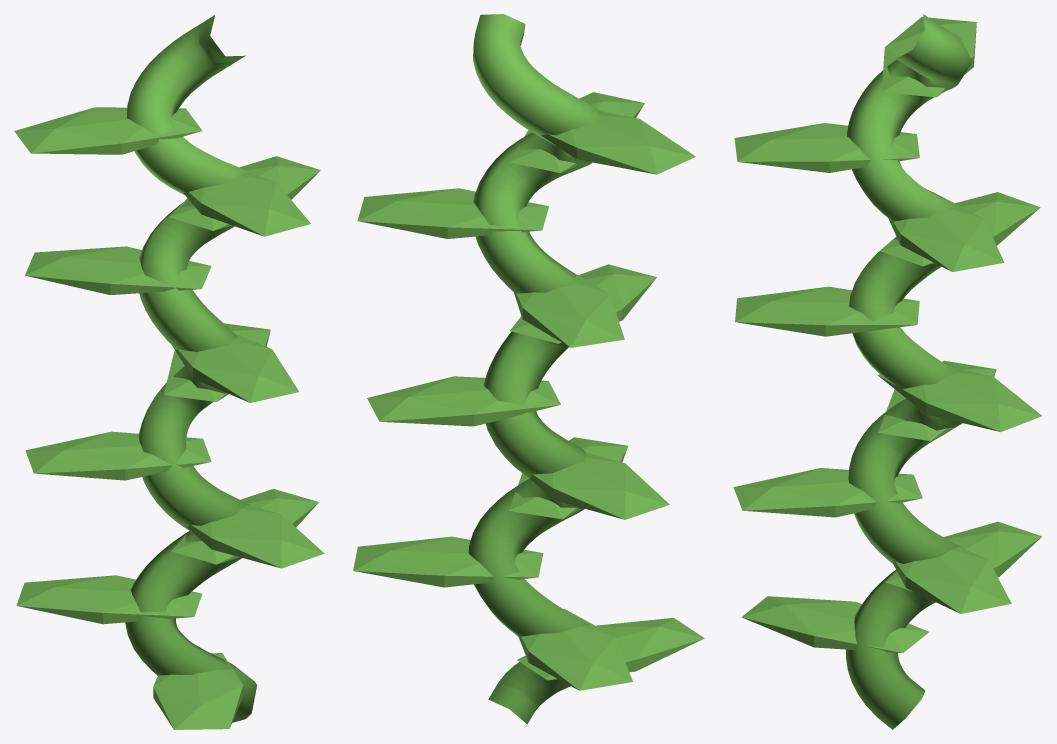
The model's file is beanstalk.glb.
3 renders of one model, left to right at view 1: azimuth 30°, elevation 25°; view 2: azimuth 150°, elevation 25°; view 3: azimuth 270°, elevation 25°, orthographic. The views are drawn at different scales.
Visible parts, largest first — view 1: beanstalk; view 2: beanstalk; view 3: beanstalk.
Boxes of the visible parts, x1,y1,x2,y2 form: beanstalk: [14, 15, 324, 729]; beanstalk: [353, 14, 704, 726]; beanstalk: [733, 14, 1041, 729].
Bounding box in the file's own units: 0.4837 × 1.05 × 0.4145.
